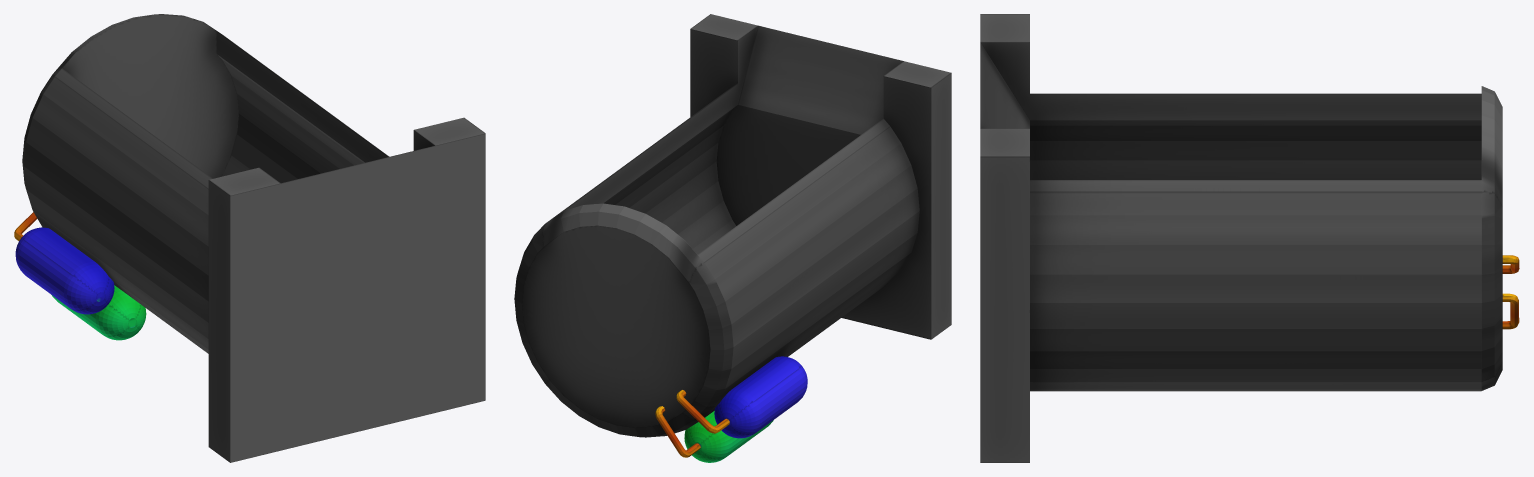
File: teleporter-clean.fbx
3 renders of one model, left to right at view 1: azimuth 30°, elevation 25°; view 2: azimuth 150°, elevation 25°; view 3: azimuth 270°, elevation 25°, orthographic. The views are drawn at different scales.
Parts seen in each view (by area): view 1: Teleporter; view 2: Teleporter; view 3: Teleporter.
Boxes of the visible parts, box(x1,y1,x2,y2) form: Teleporter: box(14, 14, 485, 462); Teleporter: box(514, 14, 951, 462); Teleporter: box(980, 14, 1519, 462).
Bounding box in the file's own units: 1.95 × 1.95 × 3.05.
